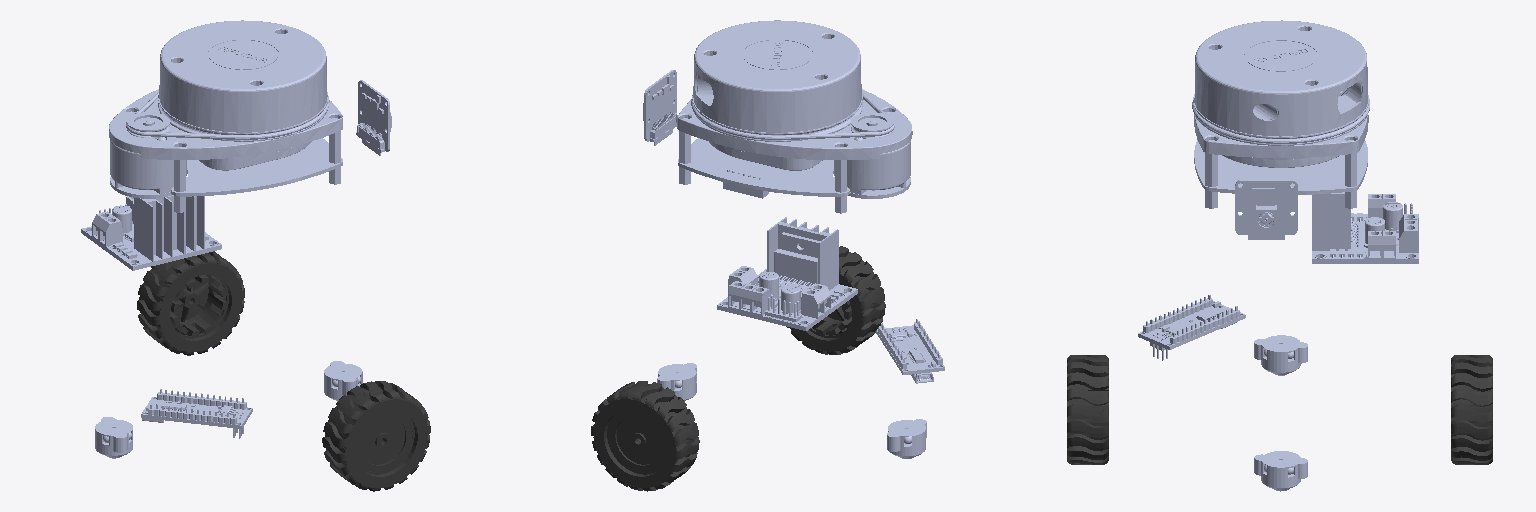
The robot description file, URDF, robot "BumperBotLaser":
<?xml version="1.0" encoding="utf-8"?>
<!-- This URDF was automatically created by SolidWorks to URDF Exporter! Originally created by Stephen Brawner (brawner@gmail.com) 
     Commit Version: 1.6.0-4-g7f85cfe  Build Version: 1.6.7995.38578
     For more information, please see http://wiki.ros.org/sw_urdf_exporter -->
<robot
  name="BumperBotLaser">
  <link
    name="base_foot_link">
    <inertial>
      <origin
        xyz="-0.028115 0.0019307 0.057486"
        rpy="0 0 0" />
      <mass
        value="0.40531" />
      <inertia
        ixx="0.00042588"
        ixy="2.6038E-05"
        ixz="5.0103E-07"
        iyy="0.0004036"
        iyz="1.5986E-07"
        izz="0.00081597" />
    </inertial>
    <visual>
      <origin
        xyz="0 0 0"
        rpy="0 0 0" />
      <geometry>
        <mesh
          filename="package://BumperBotLaser/meshes/base_foot_link.STL" />
      </geometry>
      <material
        name="">
        <color
          rgba="0.019608 0.019608 0.019608 1" />
      </material>
    </visual>
    <collision>
      <origin
        xyz="0 0 0"
        rpy="0 0 0" />
      <geometry>
        <mesh
          filename="package://BumperBotLaser/meshes/base_foot_link.STL" />
      </geometry>
    </collision>
  </link>
  <link
    name="base_link">
    <inertial>
      <origin
        xyz="-0.028115 0.0019307 0.035306"
        rpy="0 0 0" />
      <mass
        value="0.40531" />
      <inertia
        ixx="0.00042588"
        ixy="2.6038E-05"
        ixz="5.0103E-07"
        iyy="0.0004036"
        iyz="1.5986E-07"
        izz="0.00081597" />
    </inertial>
    <visual>
      <origin
        xyz="0 0 0"
        rpy="0 0 0" />
      <geometry>
        <mesh
          filename="package://BumperBotLaser/meshes/base_link.STL" />
      </geometry>
      <material
        name="">
        <color
          rgba="0.019608 0.019608 0.019608 1" />
      </material>
    </visual>
    <collision>
      <origin
        xyz="0 0 0"
        rpy="0 0 0" />
      <geometry>
        <mesh
          filename="package://BumperBotLaser/meshes/base_link.STL" />
      </geometry>
    </collision>
  </link>
  <joint
    name="base_joint"
    type="fixed">
    <origin
      xyz="0 0 0.02218"
      rpy="0 0 0" />
    <parent
      link="base_foot_link" />
    <child
      link="base_link" />
    <axis
      xyz="0 0 0" />
  </joint>
  <link
    name="left_wheel_link">
    <inertial>
      <origin
        xyz="2.4008E-06 3.0009E-06 0.0047006"
        rpy="0 0 0" />
      <mass
        value="0.014739" />
      <inertia
        ixx="2.5308E-06"
        ixy="1.3204E-09"
        ixz="4.2343E-10"
        iyy="2.5286E-06"
        iyz="2.1865E-10"
        izz="4.4077E-06" />
    </inertial>
    <visual>
      <origin
        xyz="0 0 0"
        rpy="0 0 0" />
      <geometry>
        <mesh
          filename="package://BumperBotLaser/meshes/left_wheel_link.STL" />
      </geometry>
      <material
        name="">
        <color
          rgba="0.29804 0.29804 0.29804 1" />
      </material>
    </visual>
    <collision>
      <origin
        xyz="0 0 0"
        rpy="0 0 0" />
      <geometry>
        <mesh
          filename="package://BumperBotLaser/meshes/left_wheel_link.STL" />
      </geometry>
    </collision>
  </link>
  <joint
    name="left_wheel_joint"
    type="continuous">
    <origin
      xyz="0 0.0817250000000045 0"
      rpy="1.5707963267949 0 0" />
    <parent
      link="base_link" />
    <child
      link="left_wheel_link" />
    <axis
      xyz="0 0 -1" />
  </joint>
  <link
    name="right_wheel_link">
    <inertial>
      <origin
        xyz="-3.4265E-06 1.7404E-06 -0.0047006"
        rpy="0 0 0" />
      <mass
        value="0.014739" />
      <inertia
        ixx="2.5314E-06"
        ixy="-2.8957E-11"
        ixz="4.7594E-10"
        iyy="2.528E-06"
        iyz="-2.416E-11"
        izz="4.4077E-06" />
    </inertial>
    <visual>
      <origin
        xyz="0 0 0"
        rpy="0 0 0" />
      <geometry>
        <mesh
          filename="package://BumperBotLaser/meshes/right_wheel_link.STL" />
      </geometry>
      <material
        name="">
        <color
          rgba="0.29804 0.29804 0.29804 1" />
      </material>
    </visual>
    <collision>
      <origin
        xyz="0 0 0"
        rpy="0 0 0" />
      <geometry>
        <mesh
          filename="package://BumperBotLaser/meshes/right_wheel_link.STL" />
      </geometry>
    </collision>
  </link>
  <joint
    name="right_wheel_joint"
    type="continuous">
    <origin
      xyz="0 -0.0827249999999955 0"
      rpy="1.5707963267949 0 0" />
    <parent
      link="base_link" />
    <child
      link="right_wheel_link" />
    <axis
      xyz="0 0 -1" />
  </joint>
  <link
    name="front_caster_link">
    <inertial>
      <origin
        xyz="-3.7183E-08 -4.9161E-08 0.0077372"
        rpy="0 0 0" />
      <mass
        value="0.0020373" />
      <inertia
        ixx="5.7436E-08"
        ixy="-3.4042E-09"
        ixz="1.7705E-13"
        iyy="4.2537E-08"
        iyz="2.3421E-13"
        izz="6.9442E-08" />
    </inertial>
    <visual>
      <origin
        xyz="0 0 0"
        rpy="0 0 0" />
      <geometry>
        <mesh
          filename="package://BumperBotLaser/meshes/front_caster_link.STL" />
      </geometry>
      <material
        name="">
        <color
          rgba="0.79216 0.81961 0.93333 1" />
      </material>
    </visual>
    <collision>
      <origin
        xyz="0 0 0"
        rpy="0 0 0" />
      <geometry>
        <mesh
          filename="package://BumperBotLaser/meshes/front_caster_link.STL" />
      </geometry>
    </collision>
  </link>
  <joint
    name="front_caster_joint"
    type="fixed">
    <origin
      xyz="0.0289043663959501 0 -0.02218"
      rpy="0 0 0" />
    <parent
      link="base_link" />
    <child
      link="front_caster_link" />
    <axis
      xyz="0 0 0" />
  </joint>
  <link
    name="rear_caster_link">
    <inertial>
      <origin
        xyz="-3.71829964110337E-08 -4.91614260888715E-08 0.00773720092553878"
        rpy="0 0 0" />
      <mass
        value="0.00203727928767678" />
      <inertia
        ixx="5.74357335011943E-08"
        ixy="-3.40420205982782E-09"
        ixz="1.77053129228762E-13"
        iyy="4.25371360767332E-08"
        iyz="2.34214501446374E-13"
        izz="6.94416877400952E-08" />
    </inertial>
    <visual>
      <origin
        xyz="0 0 0"
        rpy="0 0 0" />
      <geometry>
        <mesh
          filename="package://BumperBotLaser/meshes/rear_caster_link.STL" />
      </geometry>
      <material
        name="">
        <color
          rgba="0.792156862745098 0.819607843137255 0.933333333333333 1" />
      </material>
    </visual>
    <collision>
      <origin
        xyz="0 0 0"
        rpy="0 0 0" />
      <geometry>
        <mesh
          filename="package://BumperBotLaser/meshes/rear_caster_link.STL" />
      </geometry>
    </collision>
  </link>
  <joint
    name="rear_caster_joint"
    type="fixed">
    <origin
      xyz="-0.08109563360405 0 -0.02218"
      rpy="0 0 0" />
    <parent
      link="base_link" />
    <child
      link="rear_caster_link" />
    <axis
      xyz="0 0 0" />
  </joint>
  <link
    name="lidar_link">
    <inertial>
      <origin
        xyz="-0.0121635345530738 0.000482112723461479 -0.0287648853429119"
        rpy="0 0 0" />
      <mass
        value="0.0730845765879762" />
      <inertia
        ixx="1.95808776634039E-05"
        ixy="-1.03933463680521E-07"
        ixz="4.28390881766784E-07"
        iyy="2.41250105378788E-05"
        iyz="-9.42691068549122E-09"
        izz="4.14184560608997E-05" />
    </inertial>
    <visual>
      <origin
        xyz="0 0 0"
        rpy="0 0 0" />
      <geometry>
        <mesh
          filename="package://BumperBotLaser/meshes/lidar_link.STL" />
      </geometry>
      <material
        name="">
        <color
          rgba="0.792156862745098 0.819607843137255 0.933333333333333 1" />
      </material>
    </visual>
    <collision>
      <origin
        xyz="0 0 0"
        rpy="0 0 0" />
      <geometry>
        <mesh
          filename="package://BumperBotLaser/meshes/lidar_link.STL" />
      </geometry>
    </collision>
  </link>
  <joint
    name="lidar_joint"
    type="fixed">
    <origin
      xyz="-0.0189923378935408 4.99776723541859E-05 0.147999999999995"
      rpy="0 0 0" />
    <parent
      link="base_link" />
    <child
      link="lidar_link" />
    <axis
      xyz="0 0 0" />
  </joint>
  <link
    name="camera_link">
    <inertial>
      <origin
        xyz="-6.32448475772623E-05 -0.000138584619325432 -0.00175299896890024"
        rpy="0 0 0" />
      <mass
        value="0.00126111455014472" />
      <inertia
        ixx="7.37124295544829E-08"
        ixy="-3.4394923162254E-12"
        ixz="-1.78678667908353E-11"
        iyy="3.44483240509786E-08"
        iyz="4.46525635564553E-10"
        izz="4.00056922420437E-08" />
    </inertial>
    <visual>
      <origin
        xyz="0 0 0"
        rpy="0 0 0" />
      <geometry>
        <mesh
          filename="package://BumperBotLaser/meshes/camera_link.STL" />
      </geometry>
      <material
        name="">
        <color
          rgba="0.792156862745098 0.819607843137255 0.933333333333333 1" />
      </material>
    </visual>
    <collision>
      <origin
        xyz="0 0 0"
        rpy="0 0 0" />
      <geometry>
        <mesh
          filename="package://BumperBotLaser/meshes/camera_link.STL" />
      </geometry>
    </collision>
  </link>
  <joint
    name="camera_joint"
    type="fixed">
    <origin
      xyz="0.040904366395938 -0.00589533559393918 0.108110464460819"
      rpy="0 0 0" />
    <parent
      link="base_link" />
    <child
      link="camera_link" />
    <axis
      xyz="0 0 0" />
  </joint>
  <link
    name="pi_link">
    <inertial>
      <origin
        xyz="-0.0145065067770703 -0.000743510804877889 0.00354600980789387"
        rpy="0 0 0" />
      <mass
        value="0.0191036864073752" />
      <inertia
        ixx="2.18672009096868E-06"
        ixy="-9.52868497095503E-09"
        ixz="-3.33922055607631E-09"
        iyy="4.7411152805042E-06"
        iyz="4.65625999057636E-11"
        izz="6.62273255784885E-06" />
    </inertial>
    <visual>
      <origin
        xyz="0 0 0"
        rpy="0 0 0" />
      <geometry>
        <mesh
          filename="package://BumperBotLaser/meshes/pi_link.STL" />
      </geometry>
      <material
        name="">
        <color
          rgba="0.792156862745098 0.819607843137255 0.933333333333333 1" />
      </material>
    </visual>
    <collision>
      <origin
        xyz="0 0 0"
        rpy="0 0 0" />
      <geometry>
        <mesh
          filename="package://BumperBotLaser/meshes/pi_link.STL" />
      </geometry>
    </collision>
  </link>
  <joint
    name="pi_joint"
    type="fixed">
    <origin
      xyz="-0.0264122835221681 -0.0313239696089781 0.0561"
      rpy="0 0 0" />
    <parent
      link="base_link" />
    <child
      link="pi_link" />
    <axis
      xyz="0 0 0" />
  </joint>
  <link
    name="driver_link">
    <inertial>
      <origin
        xyz="0.000938376940393549 0.00227317770062375 0.00527064459219691"
        rpy="0 0 0" />
      <mass
        value="0.0108211730968815" />
      <inertia
        ixx="2.17625406421576E-06"
        ixy="-4.40612528080354E-08"
        ixz="-1.43320184712678E-08"
        iyy="1.79740448233232E-06"
        iyz="3.69097463850366E-07"
        izz="2.97363329279334E-06" />
    </inertial>
    <visual>
      <origin
        xyz="0 0 0"
        rpy="0 0 0" />
      <geometry>
        <mesh
          filename="package://BumperBotLaser/meshes/driver_link.STL" />
      </geometry>
      <material
        name="">
        <color
          rgba="0.792156862745098 0.819607843137255 0.933333333333333 1" />
      </material>
    </visual>
    <collision>
      <origin
        xyz="0 0 0"
        rpy="0 0 0" />
      <geometry>
        <mesh
          filename="package://BumperBotLaser/meshes/driver_link.STL" />
      </geometry>
    </collision>
  </link>
  <joint
    name="driver_joint"
    type="fixed">
    <origin
      xyz="-0.0438382120566316 0.0298743923406085 0.0565"
      rpy="0 0 0" />
    <parent
      link="base_link" />
    <child
      link="driver_link" />
    <axis
      xyz="0 0 0" />
  </joint>
  <link
    name="nano_link">
    <inertial>
      <origin
        xyz="-7.05451429052553E-05 9.62883158873856E-05 -0.000586124943715894"
        rpy="0 0 0" />
      <mass
        value="0.00217968184782145" />
      <inertia
        ixx="1.57025845390243E-07"
        ixy="9.17676195022362E-08"
        ixz="-3.80435085498668E-11"
        iyy="1.57027166165118E-07"
        iyz="3.81599795466104E-11"
        izz="3.08413157394465E-07" />
    </inertial>
    <visual>
      <origin
        xyz="0 0 0"
        rpy="0 0 0" />
      <geometry>
        <mesh
          filename="package://BumperBotLaser/meshes/nano_link.STL" />
      </geometry>
      <material
        name="">
        <color
          rgba="0.792156862745098 0.819607843137255 0.933333333333333 1" />
      </material>
    </visual>
    <collision>
      <origin
        xyz="0 0 0"
        rpy="0 0 0" />
      <geometry>
        <mesh
          filename="package://BumperBotLaser/meshes/nano_link.STL" />
      </geometry>
    </collision>
  </link>
  <joint
    name="nano_joint"
    type="fixed">
    <origin
      xyz="-0.0623428254587056 -0.0357216668041171 0.0091"
      rpy="0 0 0" />
    <parent
      link="base_link" />
    <child
      link="nano_link" />
    <axis
      xyz="0 0 0" />
  </joint>
</robot>

--- Facts derived from the render (not from the file) ---
Views: 3 orthographic renders of the robot side by side, from view 1: azimuth 30°, elevation 25°; view 2: azimuth 150°, elevation 25°; view 3: azimuth 270°, elevation 25°.
Model BumperBotLaser with 11 links and 10 joints (2 continuous, 8 fixed), rooted at base_foot_link, posed all joints at 0.
Links seen in each view (by area): view 1: lidar_link, right_wheel_link, left_wheel_link, driver_link, nano_link, camera_link, rear_caster_link, front_caster_link; view 2: lidar_link, driver_link, left_wheel_link, right_wheel_link, nano_link, camera_link, rear_caster_link, front_caster_link; view 3: lidar_link, driver_link, left_wheel_link, right_wheel_link, camera_link, nano_link, rear_caster_link, front_caster_link.
Link boxes in pixels (x1,y1,x2,y2): lidar_link: [109, 20, 342, 212]; right_wheel_link: [322, 381, 430, 491]; left_wheel_link: [137, 251, 244, 355]; driver_link: [81, 195, 221, 270]; nano_link: [141, 389, 252, 438]; camera_link: [356, 80, 391, 155]; rear_caster_link: [95, 417, 132, 458]; front_caster_link: [324, 361, 362, 401]; lidar_link: [677, 20, 912, 213]; driver_link: [717, 217, 857, 330]; left_wheel_link: [591, 381, 699, 491]; right_wheel_link: [786, 246, 885, 354]; nano_link: [876, 319, 944, 383]; camera_link: [643, 70, 677, 145]; rear_caster_link: [887, 419, 926, 458]; front_caster_link: [657, 363, 696, 401]; lidar_link: [1192, 20, 1369, 208]; driver_link: [1312, 192, 1418, 263]; left_wheel_link: [1451, 355, 1492, 464]; right_wheel_link: [1067, 355, 1108, 464]; camera_link: [1235, 180, 1297, 239]; nano_link: [1138, 295, 1245, 360]; rear_caster_link: [1254, 335, 1307, 375]; front_caster_link: [1254, 451, 1307, 491].
Size in the robot's own frame: 0.1354 by 0.1714 by 0.1702 metres.
Meshes: 11 distinct files referenced, 8 mesh visuals loaded (8 binary STL); not drawn: 3 (reference not matched to a file when rendering).
